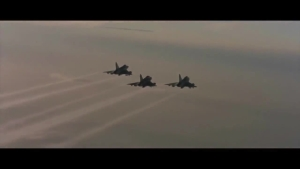flight: (164, 73, 197, 89), (126, 74, 157, 89), (102, 61, 133, 75)
